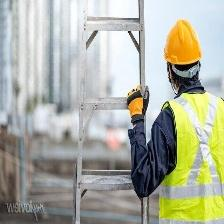helmet: (161, 15, 203, 80)
vest: (160, 85, 224, 223)
